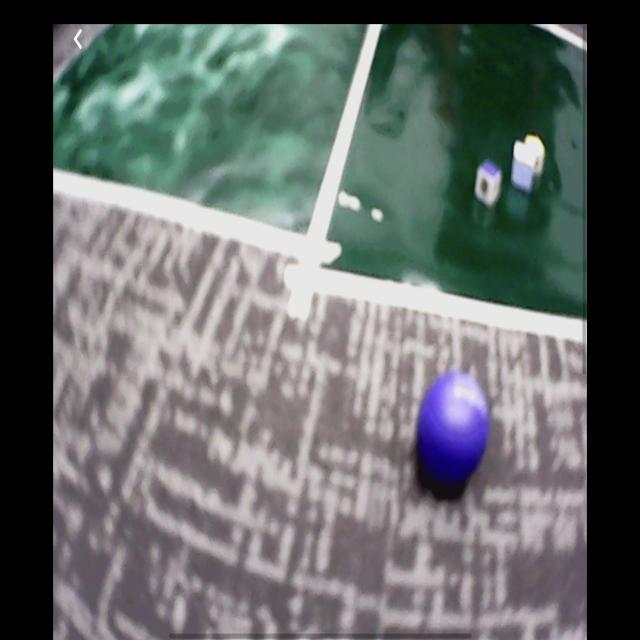ball: (419, 371, 489, 486)
